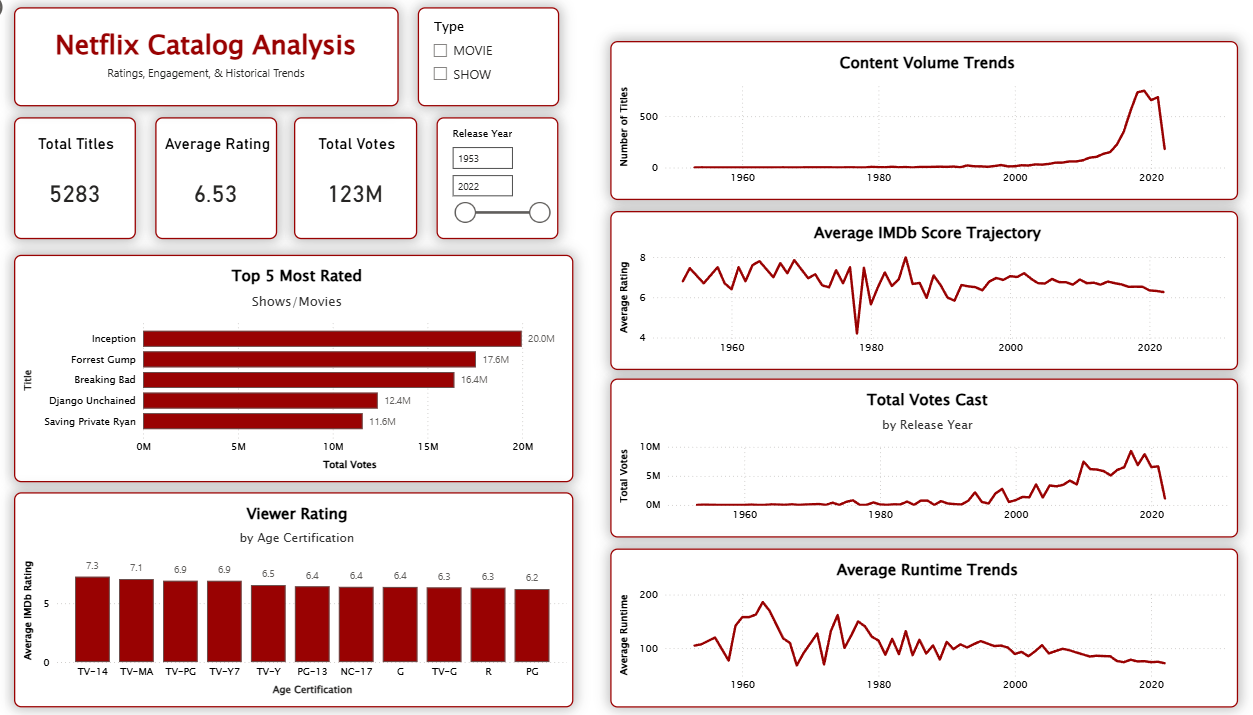

The dashboard page shown, as its layout file describes it:
{"tool":"powerbi","page":{"name":"Executive Summary","canvas":[1600,900],"ordinal":0},"visuals":[{"type":"clusteredBarChart","title":"Top 5 Most Rated","fields":{"Category":["Netflix TV Shows and Movies.title"],"Y":["All Measures.Vote*Rate"]},"box":[49.7,324.2,686.1,279.6],"z":0},{"type":"slicer","fields":{"Values":["Netflix TV Shows and Movies.type"]},"box":[543.7,20.6,173.2,121.8],"z":1000},{"type":"slicer","fields":{"Values":["Netflix TV Shows and Movies.release_year"]},"box":[567.8,154.4,149.2,149.2],"z":2000},{"type":"lineChart","title":"Content Volume Trends","fields":{"Category":["Netflix TV Shows and Movies.release_year"],"Y":["CountNonNull(Netflix TV Shows and Movies.imdb_id)"]},"box":[780.4,61.7,770.2,195.5],"z":3000},{"type":"lineChart","title":"Average IMDb Score Trajectory","fields":{"Category":["Netflix TV Shows and Movies.release_year"],"Y":["Avg(Netflix TV Shows and Movies.imdb_score)"]},"box":[780.4,269.3,770.2,195.5],"z":4000},{"type":"lineChart","title":"Total Votes Cast","fields":{"Category":["Netflix TV Shows and Movies.release_year"],"Y":["Sum(Netflix TV Shows and Movies.imdb_votes)"]},"box":[780.4,475.1,770.2,195.5],"z":5000},{"type":"lineChart","title":"Average Runtime Trends","fields":{"Y":["Avg(Netflix TV Shows and Movies.runtime)"],"Category":["Netflix TV Shows and Movies.release_year"]},"box":[780.4,684.4,770.2,195.5],"z":6000},{"type":"clusteredColumnChart","title":"Viewer Rating","fields":{"Y":["Avg(Netflix TV Shows and Movies.imdb_score)"],"Category":["Netflix TV Shows and Movies.age_certification"]},"box":[49.7,615.8,686.1,264.2],"z":7000},{"type":"actionButton","box":[0,0,100,40],"z":8000},{"type":"card","title":"Total Titles","fields":{"Values":["CountNonNull(Netflix TV Shows and Movies.title)"]},"box":[49.7,154.4,149.2,149.2],"z":9000},{"type":"card","title":"Average Rating","fields":{"Values":["Avg(Netflix TV Shows and Movies.imdb_score)"]},"box":[223,154.4,149.2,149.2],"z":10000},{"type":"card","title":"Total Votes","fields":{"Values":["Sum(Netflix TV Shows and Movies.imdb_votes)"]},"box":[392.8,154.4,150.9,149.2],"z":11000},{"type":"textbox","box":[49.7,20.6,471.7,121.8],"z":11001}]}

Visuals, with their boxes in screenshot pixels (x1, y1, x2, y2), scaled from the page's 1600x900 canvas onto the 1253x715 screenshot:
"Top 5 Most Rated" clusteredBarChart: detection(39, 258, 576, 480)
slicer - Netflix TV Shows and Movies.type: detection(426, 16, 561, 113)
slicer - Netflix TV Shows and Movies.release_year: detection(445, 123, 562, 241)
"Content Volume Trends" lineChart: detection(611, 49, 1214, 204)
"Average IMDb Score Trajectory" lineChart: detection(611, 214, 1214, 369)
"Total Votes Cast" lineChart: detection(611, 377, 1214, 533)
"Average Runtime Trends" lineChart: detection(611, 544, 1214, 699)
"Viewer Rating" clusteredColumnChart: detection(39, 489, 576, 699)
actionButton: detection(0, 0, 78, 32)
"Total Titles" card: detection(39, 123, 156, 241)
"Average Rating" card: detection(175, 123, 291, 241)
"Total Votes" card: detection(308, 123, 426, 241)
textbox: detection(39, 16, 408, 113)
